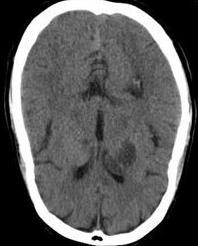Normal_Brain: (1, 1, 198, 246)
